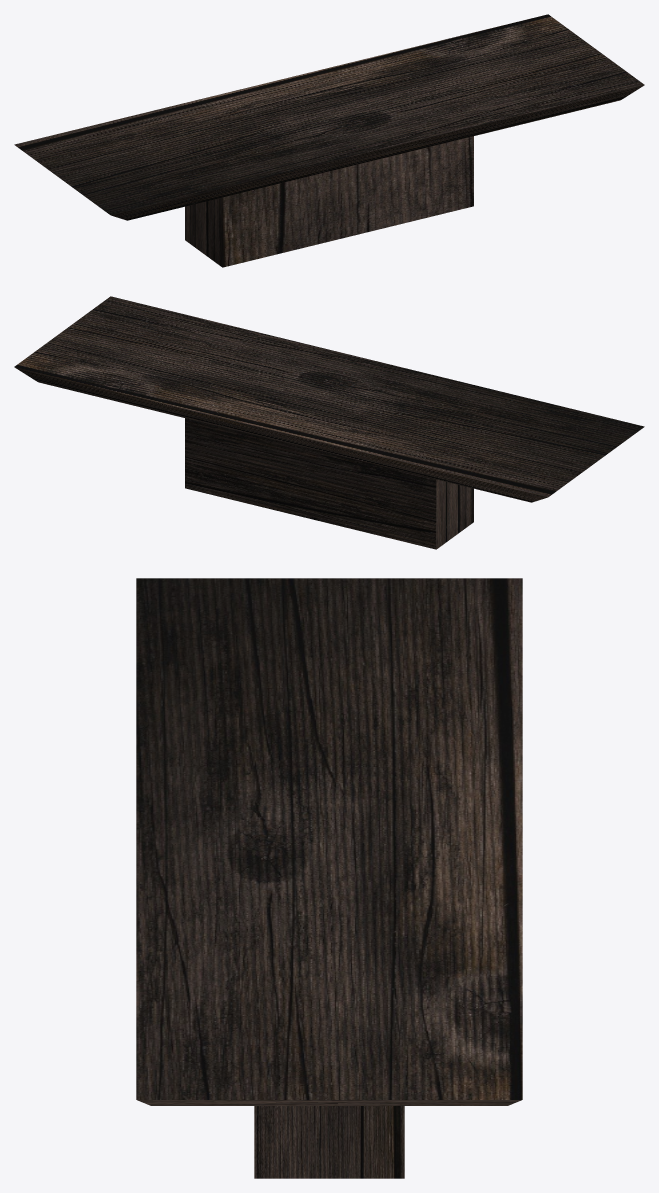
The model's file is Table.fbx.
3 renders of one model, top to bottom at view 1: azimuth 30°, elevation 25°; view 2: azimuth 150°, elevation 25°; view 3: azimuth 270°, elevation 25°, orthographic. The views are drawn at different scales.
Visible parts, largest first — view 1: Table; view 2: Table; view 3: Table.
Boxes of the visible parts, x1,y1,x2,y2 form: Table: [14, 14, 644, 267]; Table: [14, 296, 644, 549]; Table: [136, 578, 522, 1178].
Bounding box in the file's own units: 636 × 123 × 199.
